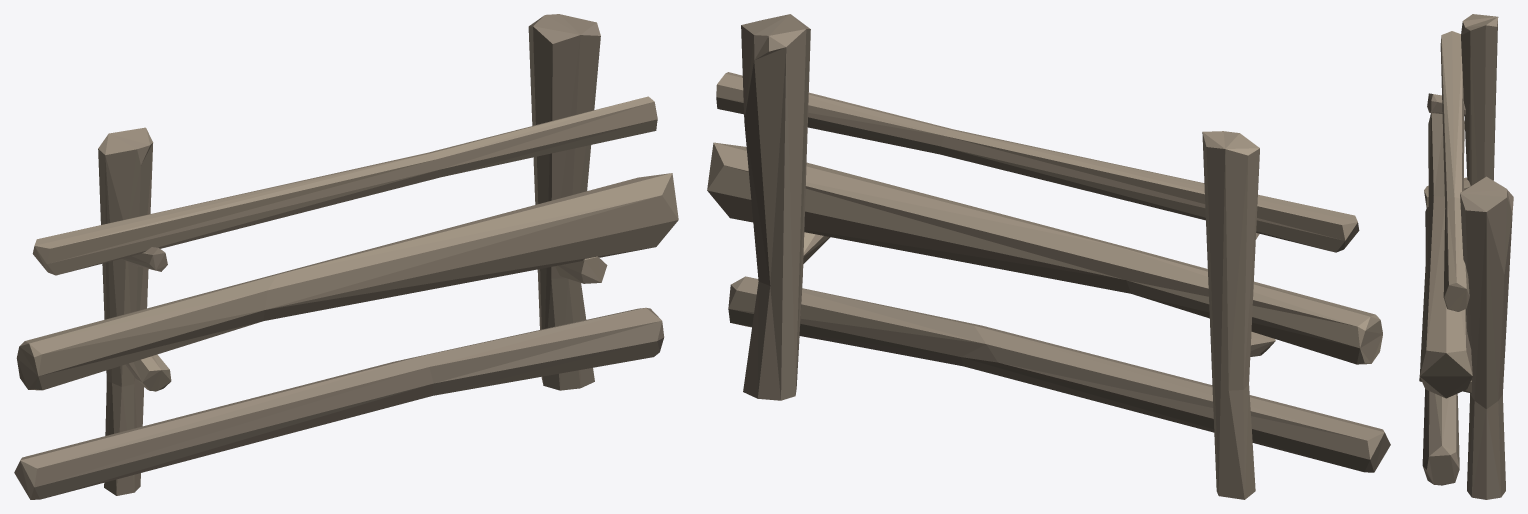
Rendered from fence_wood_01b.glb.
The picture shows the model from 3 angles, left to right: view 1: azimuth 30°, elevation 25°; view 2: azimuth 150°, elevation 25°; view 3: azimuth 270°, elevation 25°; orthographic projection. The views are drawn at different scales.
Parts seen in each view (by area): view 1: estructura.cerca.env_fence_wood_01b; view 2: estructura.cerca.env_fence_wood_01b; view 3: estructura.cerca.env_fence_wood_01b.
Boxes of the visible parts, <box> form: estructura.cerca.env_fence_wood_01b: <box>14,14,678,499</box>; estructura.cerca.env_fence_wood_01b: <box>707,14,1390,499</box>; estructura.cerca.env_fence_wood_01b: <box>1419,14,1513,499</box>.
Size of the model in its own units: 3.03 by 1.6 by 0.4574.
